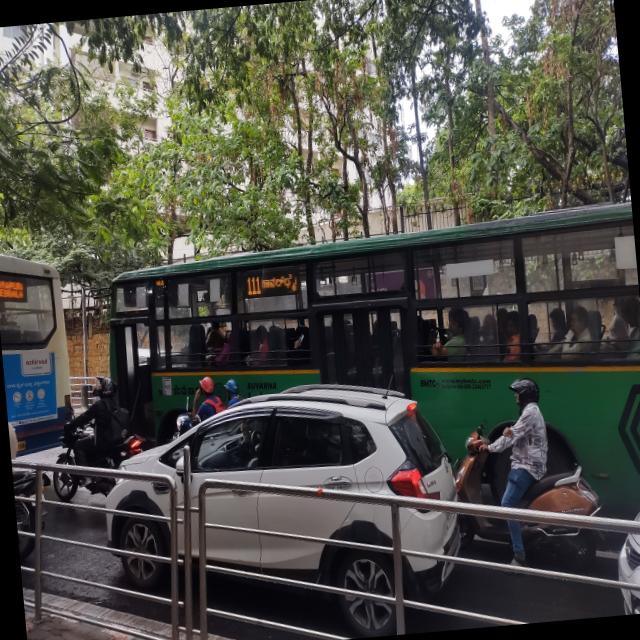bus: (98, 204, 640, 558), (0, 227, 81, 460)
display: (245, 270, 298, 296), (0, 274, 28, 302)
dnumber: (246, 275, 261, 295)
